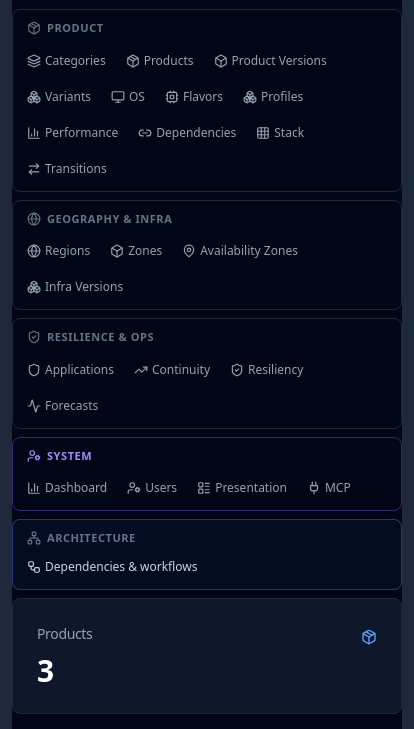
Test: Admin — Prisma Schema Refactor › Products Tab › switches to Products tab and shows product data
Click the button "Product". click: (75, 28)
box: [19, 16, 395, 40]
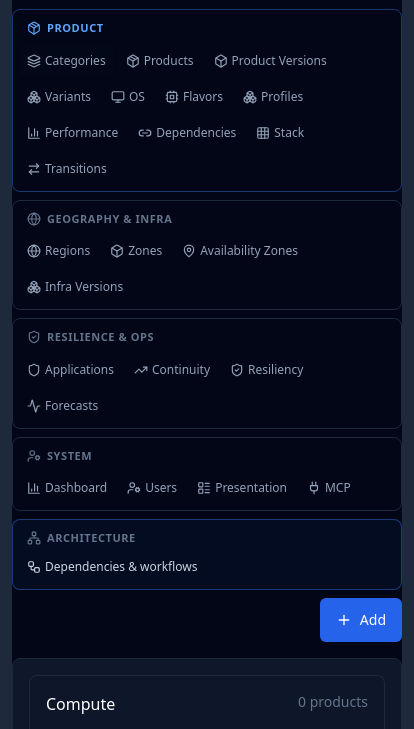
Click the button "Products". click: (160, 60)
box: [118, 44, 202, 76]
(page scrolled)
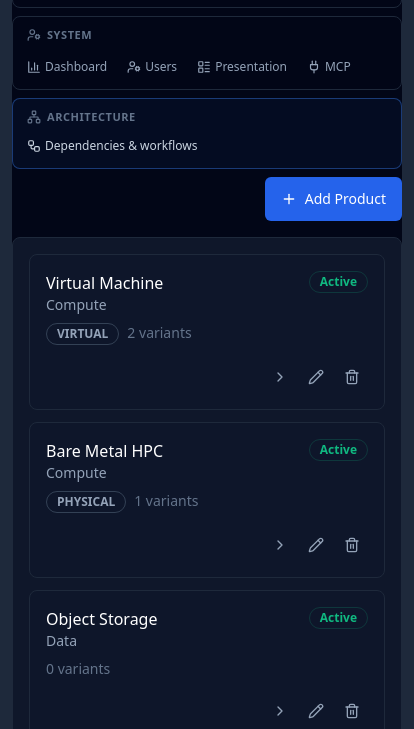
Result: the text "Virtual Machine" is shown at [46, 271, 163, 295]
Result: the text "VIRTUAL" is shown at [46, 323, 119, 345]
Result: the text "PHYSICAL" is shown at [46, 491, 126, 513]
